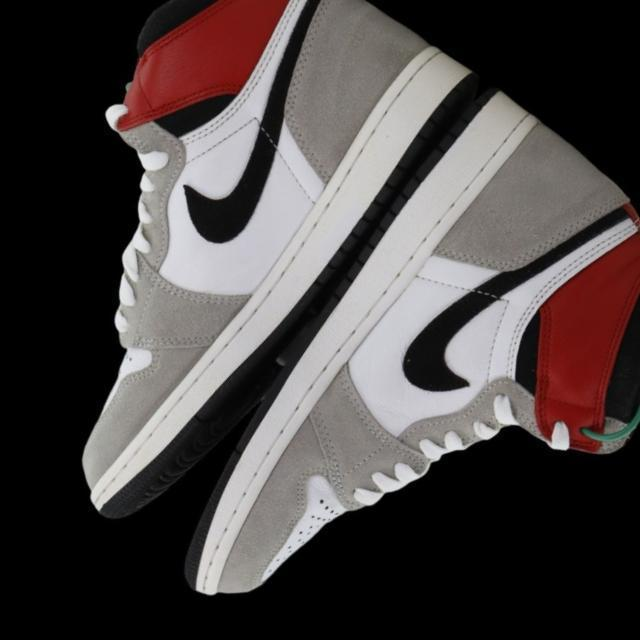nike original jordan 1: (125, 78, 640, 640), (0, 0, 489, 551)
